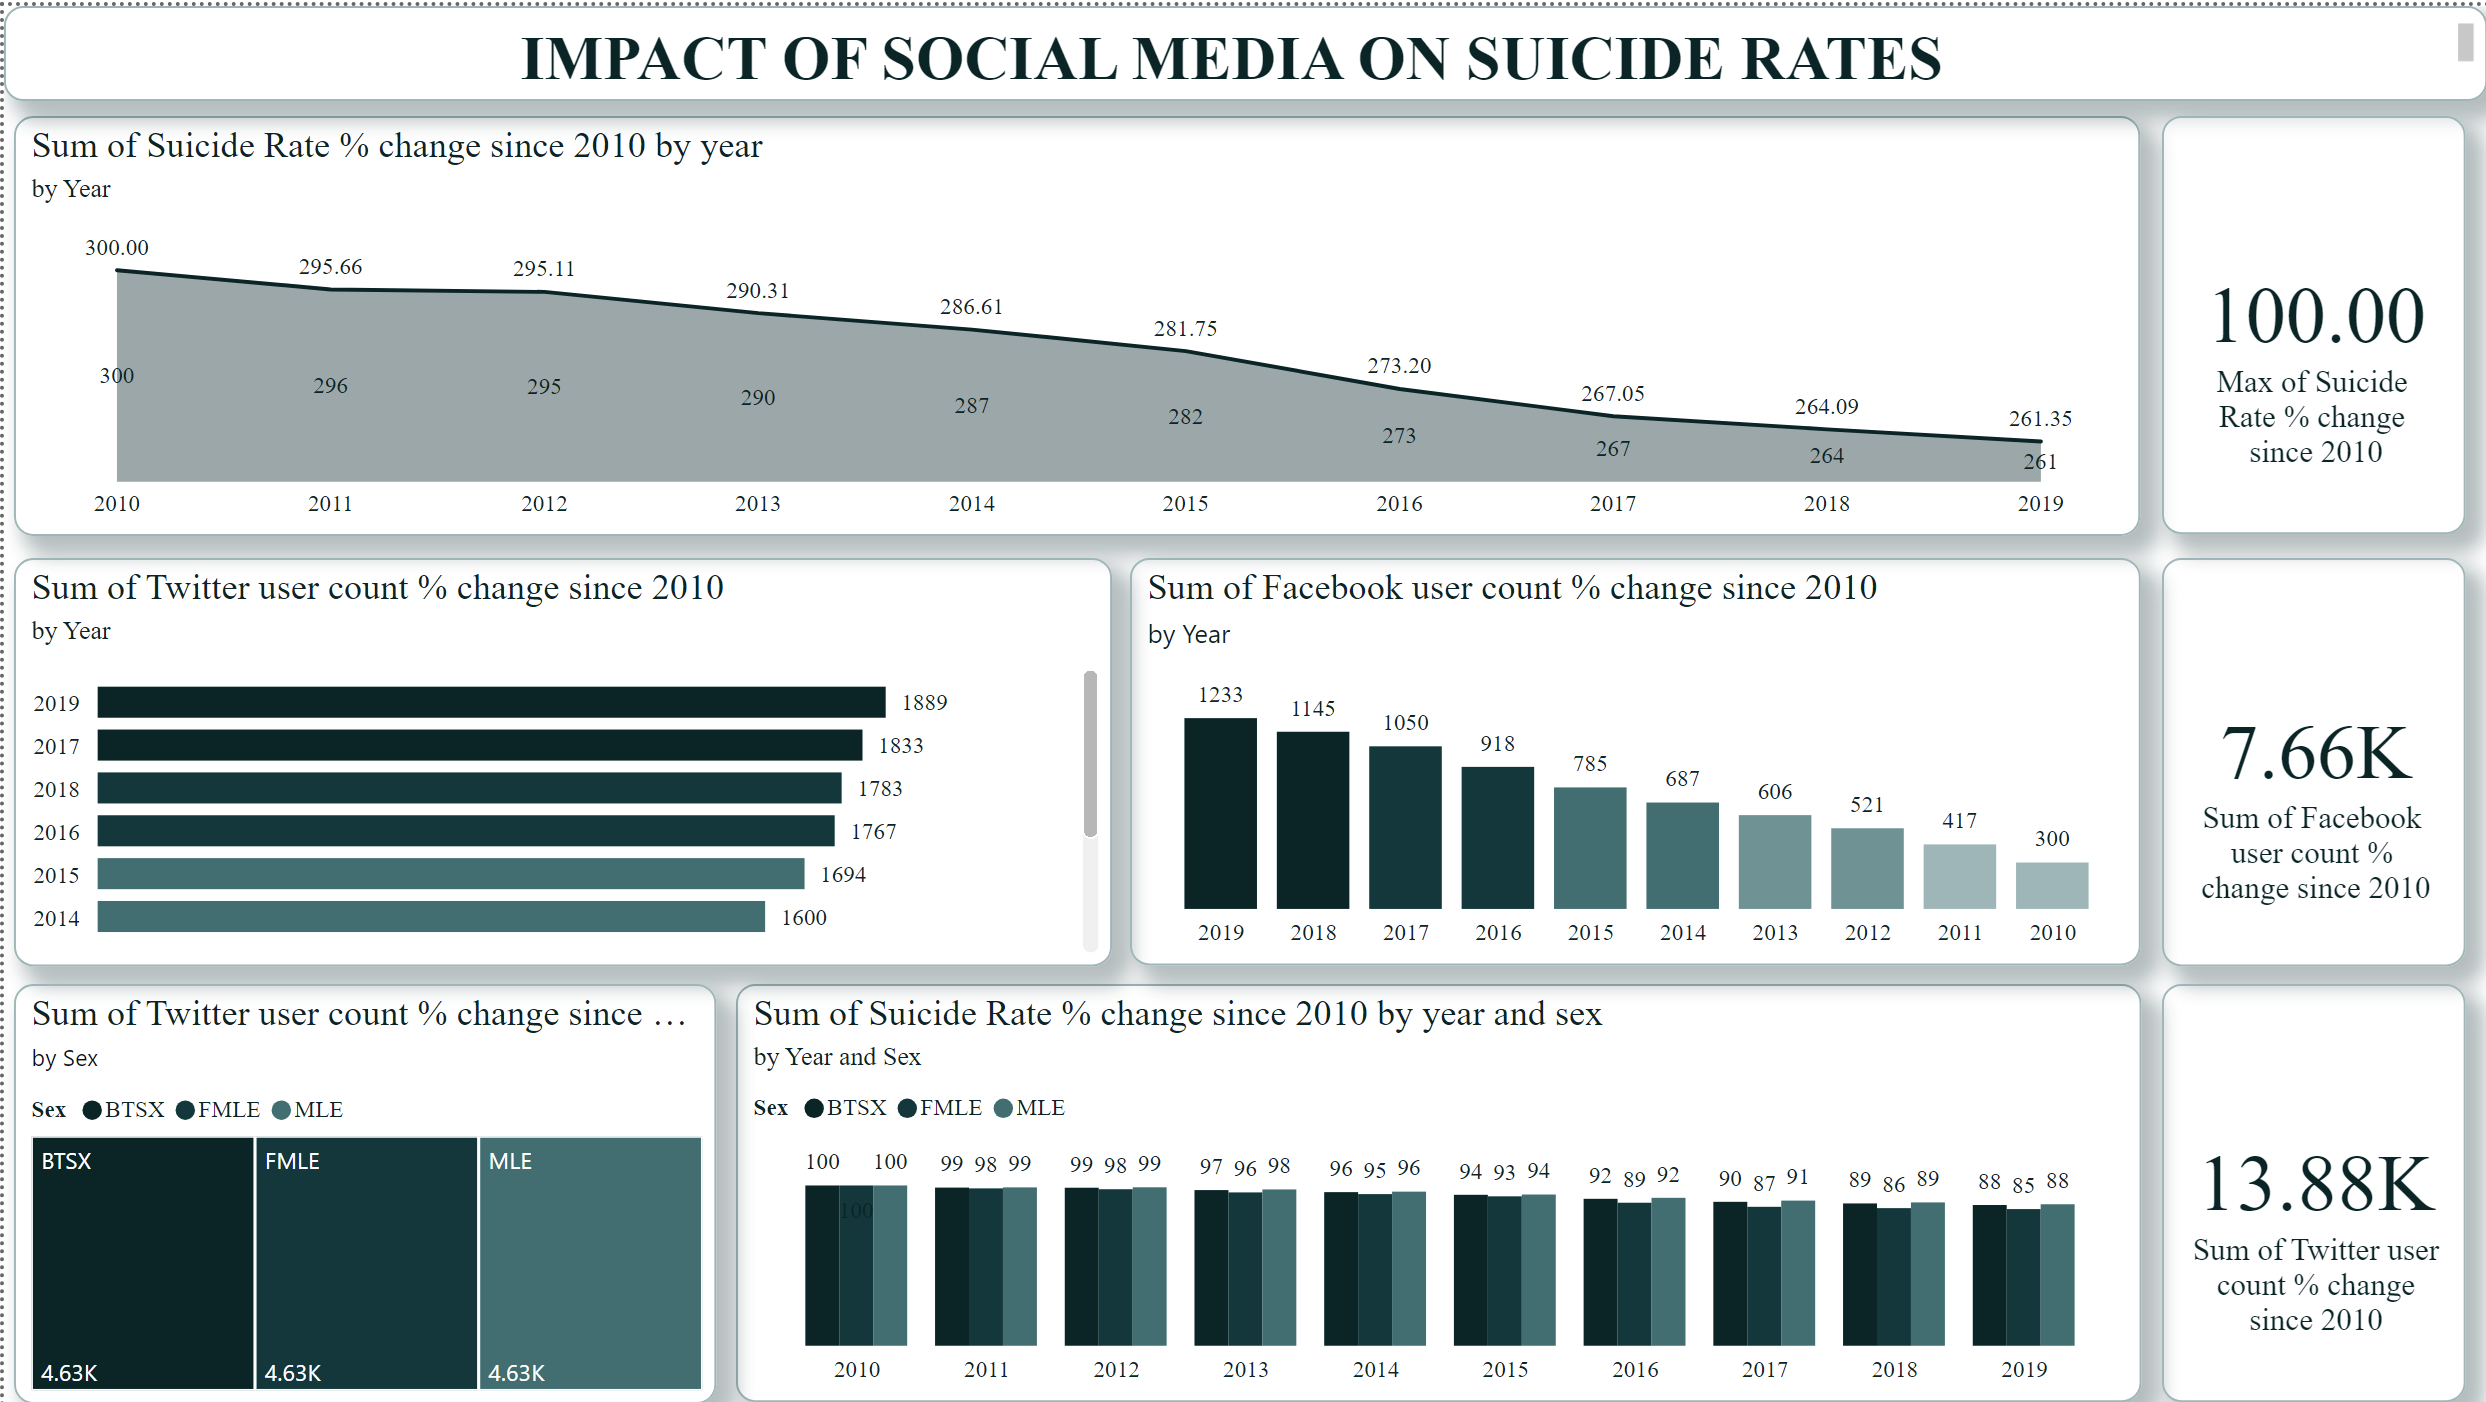

The dashboard page shown, as its layout file describes it:
{"tool":"powerbi","page":{"name":"Page 1","canvas":[1280,720],"ordinal":0},"visuals":[{"type":"stackedAreaChart","fields":{"Category":["social-media-impact-on-suicide-rates 2.year"],"Y":["Sum(social-media-impact-on-suicide-rates 2.Suicide Rate % change since 2010)"]},"box":[5.2,56.7,1095.9,216.5],"z":0},{"type":"textbox","box":[0,0,1280,48.8],"z":1000},{"type":"clusteredColumnChart","fields":{"Y":["Sum(social-media-impact-on-suicide-rates 2.Suicide Rate % change since 2010)"],"Category":["social-media-impact-on-suicide-rates 2.year"],"Series":["social-media-impact-on-suicide-rates 2.sex"]},"box":[377.3,504.1,724.7,215.5],"z":2000},{"type":"barChart","title":"Sum of Twitter user count % change since 2010","fields":{"Category":["social-media-impact-on-suicide-rates 2.year"],"Y":["Sum(social-media-impact-on-suicide-rates 2.Twitter user count % change since 2010)"]},"box":[5.2,284.5,566,210.3],"z":3000},{"type":"treemap","fields":{"Group":["social-media-impact-on-suicide-rates 2.sex"],"Values":["Sum(social-media-impact-on-suicide-rates 2.Twitter user count % change since 2010)"]},"box":[5.2,504.1,361.9,216.5],"z":4000},{"type":"columnChart","title":"Sum of Facebook user count % change since 2010","fields":{"Category":["social-media-impact-on-suicide-rates 2.year"],"Y":["Sum(social-media-impact-on-suicide-rates 2.Facebook user count % change since 2010)"]},"box":[580.2,284.6,520.9,209.9],"z":5000},{"type":"card","fields":{"Values":["Max(social-media-impact-on-suicide-rates 2.Suicide Rate % change since 2010)"]},"box":[1112.4,56.7,156.7,215.5],"z":7000},{"type":"card","fields":{"Values":["Sum(social-media-impact-on-suicide-rates 2.Facebook user count % change since 2010)"]},"box":[1112.4,284.5,156.7,210.3],"z":8000},{"type":"card","fields":{"Values":["Sum(social-media-impact-on-suicide-rates 2.Twitter user count % change since 2010)"]},"box":[1112.4,504.1,156.7,215.5],"z":9000}]}

Visuals, with their boxes in screenshot pixels (x1, y1, x2, y2), scaled from the page's 1280x720 canvas onto the 2486x1402 screenshot:
stackedAreaChart - social-media-impact-on-suicide-rates 2.year x Sum(social-media-impact-on-suicide-rates 2.Suicide Rate % change since 2010): {"left": 10, "top": 110, "right": 2139, "bottom": 532}
textbox: {"left": 0, "top": 0, "right": 2485, "bottom": 95}
clusteredColumnChart - Sum(social-media-impact-on-suicide-rates 2.Suicide Rate % change since 2010) x social-media-impact-on-suicide-rates 2.year: {"left": 733, "top": 982, "right": 2140, "bottom": 1401}
"Sum of Twitter user count % change since 2010" barChart: {"left": 10, "top": 554, "right": 1109, "bottom": 963}
treemap - social-media-impact-on-suicide-rates 2.sex x Sum(social-media-impact-on-suicide-rates 2.Twitter user count % change since 2010): {"left": 10, "top": 982, "right": 713, "bottom": 1401}
"Sum of Facebook user count % change since 2010" columnChart: {"left": 1127, "top": 554, "right": 2139, "bottom": 963}
card - Max(social-media-impact-on-suicide-rates 2.Suicide Rate % change since 2010): {"left": 2160, "top": 110, "right": 2465, "bottom": 530}
card - Sum(social-media-impact-on-suicide-rates 2.Facebook user count % change since 2010): {"left": 2160, "top": 554, "right": 2465, "bottom": 963}
card - Sum(social-media-impact-on-suicide-rates 2.Twitter user count % change since 2010): {"left": 2160, "top": 982, "right": 2465, "bottom": 1401}
